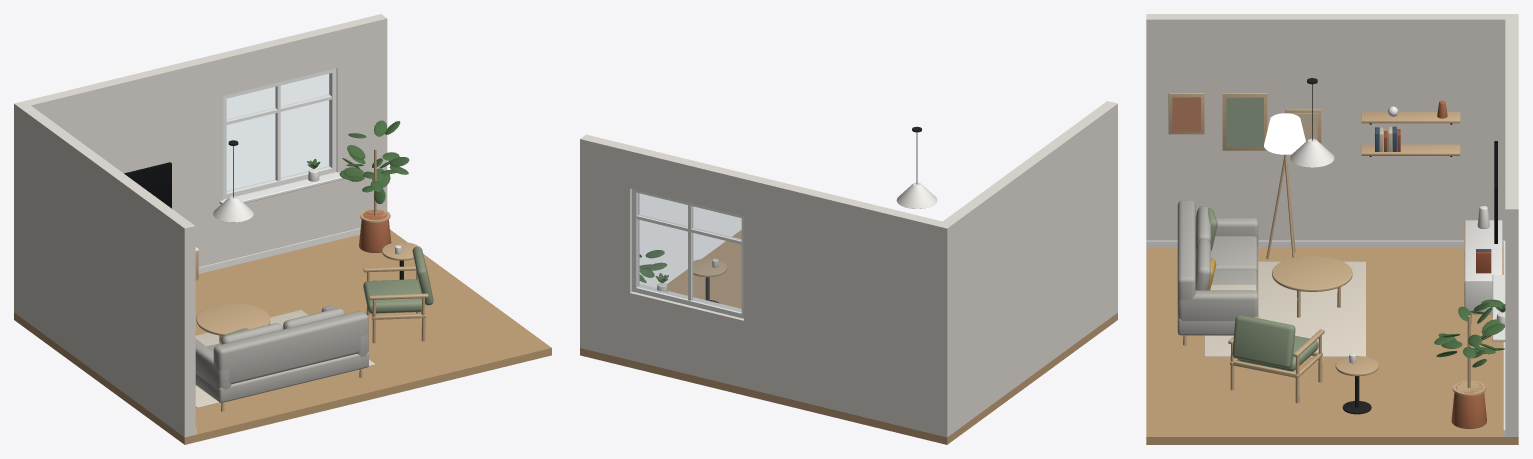
Rendered from nordic_living_room.glb.
3 renders of one model, left to right at view 1: azimuth 30°, elevation 25°; view 2: azimuth 150°, elevation 25°; view 3: azimuth 270°, elevation 25°, orthographic. The views are drawn at different scales.
Parts seen in each view (by area): view 1: Wall_Left, Floor, Wall_Back_L, Sofa, Wall_Back_R, Window_Glass, Wall_Back_Bottom, Wall_Back_Top, Plant_Fiddle_Leaf, Armchair, Coffee_Table, Skirting_Back (+9 smaller); view 2: Wall_Back_L, Wall_Left, Wall_Back_R, Window_Glass, Wall_Back_Bottom, Floor, Wall_Back_Top, Pendant_Lamp, Window_Frame_Bottom, Window_Frame_R, Side_Table, Window_Transom (+1 smaller); view 3: Wall_Left, Floor, Sofa, Rug, Armchair, Wall_Back_R, Plant_Fiddle_Leaf, Wall_Art_1, TV_Console, Coffee_Table, Floor_Lamp, Skirting_Left (+13 smaller).
Boxes of the visible parts, left/top/right/bottom form: Wall_Left: left=14, top=101, right=195, bottom=437; Floor: left=14, top=229, right=551, bottom=444; Wall_Back_L: left=25, top=54, right=223, bottom=267; Sofa: left=195, top=305, right=368, bottom=411; Wall_Back_R: left=331, top=14, right=387, bottom=233; Window_Glass: left=227, top=74, right=329, bottom=191; Wall_Back_Bottom: left=223, top=172, right=337, bottom=261; Wall_Back_Top: left=217, top=26, right=337, bottom=95; Plant_Fiddle_Leaf: left=339, top=120, right=409, bottom=252; Armchair: left=363, top=246, right=433, bottom=343; Coffee_Table: left=196, top=303, right=270, bottom=343; Skirting_Back: left=198, top=228, right=360, bottom=273; Wall_Back_L: left=744, top=174, right=942, bottom=434; Wall_Left: left=936, top=101, right=1117, bottom=437; Wall_Back_R: left=580, top=134, right=635, bottom=359; Window_Glass: left=637, top=193, right=741, bottom=311; Wall_Back_Bottom: left=630, top=291, right=743, bottom=387; Floor: left=580, top=230, right=1117, bottom=444; Wall_Back_Top: left=630, top=146, right=749, bottom=216; Pendant_Lamp: left=896, top=126, right=937, bottom=208; Window_Frame_Bottom: left=632, top=286, right=743, bottom=318; Window_Frame_R: left=632, top=189, right=639, bottom=291; Side_Table: left=693, top=258, right=727, bottom=302; Window_Transom: left=636, top=214, right=741, bottom=244; Wall_Left: left=1146, top=14, right=1518, bottom=240; Floor: left=1146, top=248, right=1518, bottom=444; Sofa: left=1177, top=200, right=1258, bottom=345; Rug: left=1204, top=261, right=1365, bottom=356; Armchair: left=1228, top=315, right=1324, bottom=403; Wall_Back_R: left=1505, top=182, right=1518, bottom=436; Plant_Fiddle_Leaf: left=1434, top=299, right=1504, bottom=428; Wall_Art_1: left=1222, top=93, right=1267, bottom=150; TV_Console: left=1464, top=220, right=1502, bottom=324; Coffee_Table: left=1272, top=255, right=1352, bottom=317; Floor_Lamp: left=1264, top=113, right=1305, bottom=259; Skirting_Left: left=1146, top=240, right=1503, bottom=247.
Bounding box in the file's own units: 5.16 × 2.9 × 4.15.
